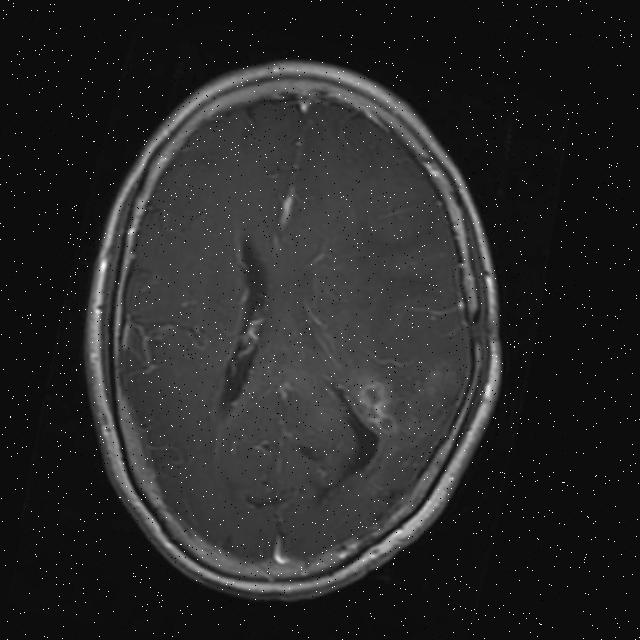Glioma: (397, 356, 465, 443), (347, 378, 405, 436)
